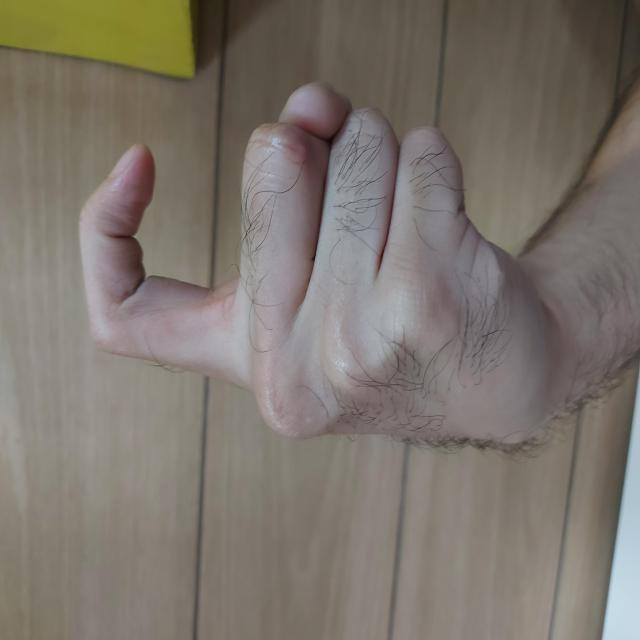X: (187, 78, 559, 559)
